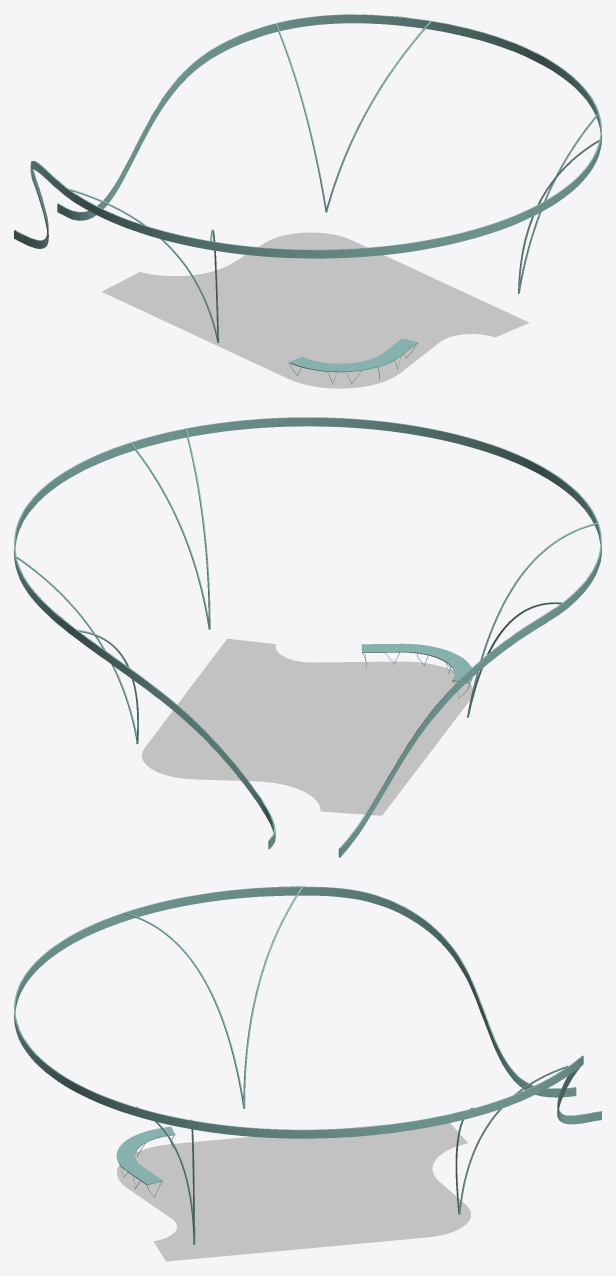
Rendered from dujuan.glb.
3 views of the same model, one above another, from view 1: azimuth 30°, elevation 25°; view 2: azimuth 150°, elevation 25°; view 3: azimuth 270°, elevation 25° (orthographic). The views are drawn at different scales.
Bounding box in the file's own units: 12510 × 4368 × 12746.
